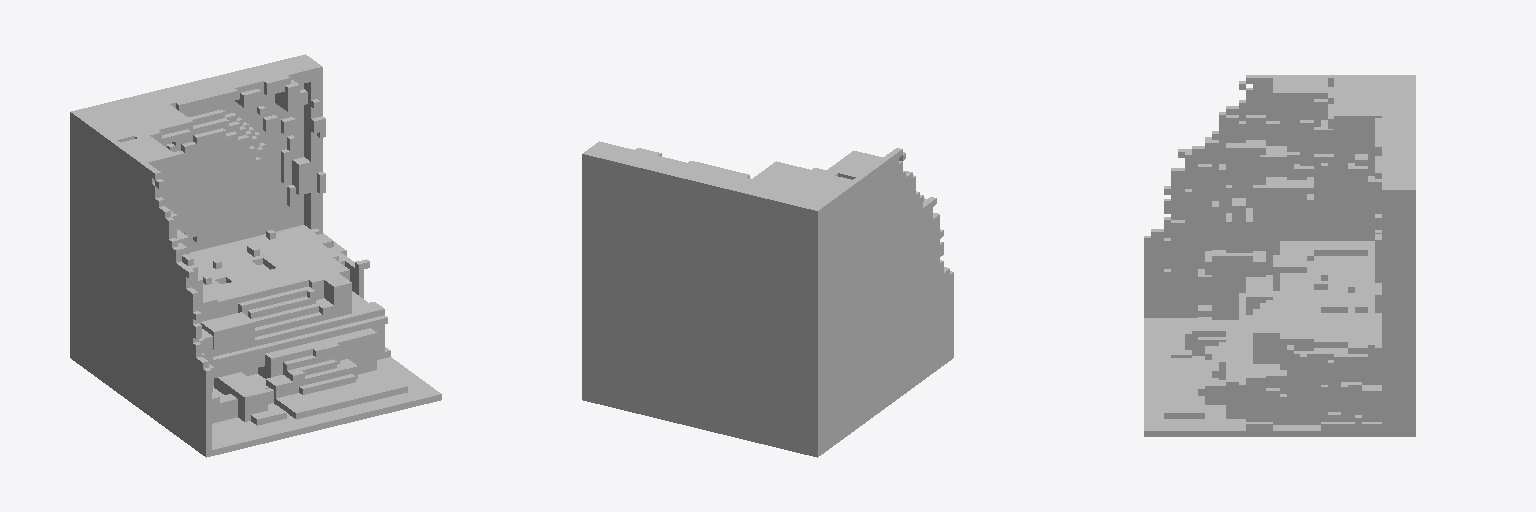
File: door1.obj
3 renders of one model, left to right at view 1: azimuth 30°, elevation 25°; view 2: azimuth 150°, elevation 25°; view 3: azimuth 270°, elevation 25°, orthographic.
Visible parts, largest first — view 1: door1; view 2: door1; view 3: door1.
Part boxes in pixels (bbox=[...]): door1: bbox=[70, 54, 441, 457]; door1: bbox=[582, 141, 953, 457]; door1: bbox=[1144, 75, 1415, 436].
Bounding box in the file's own units: 40 × 40 × 40.